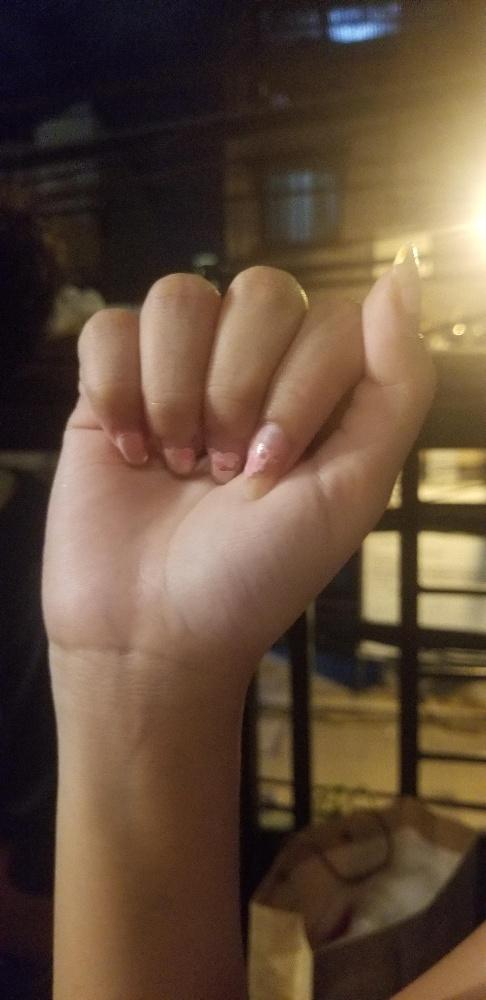a: (37, 238, 439, 670)
